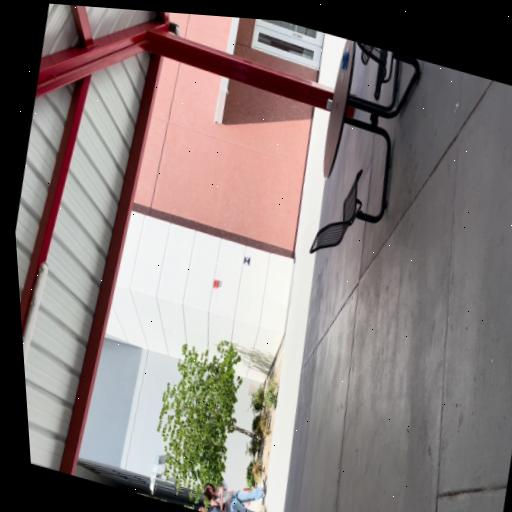target9: (242, 254, 251, 265)
